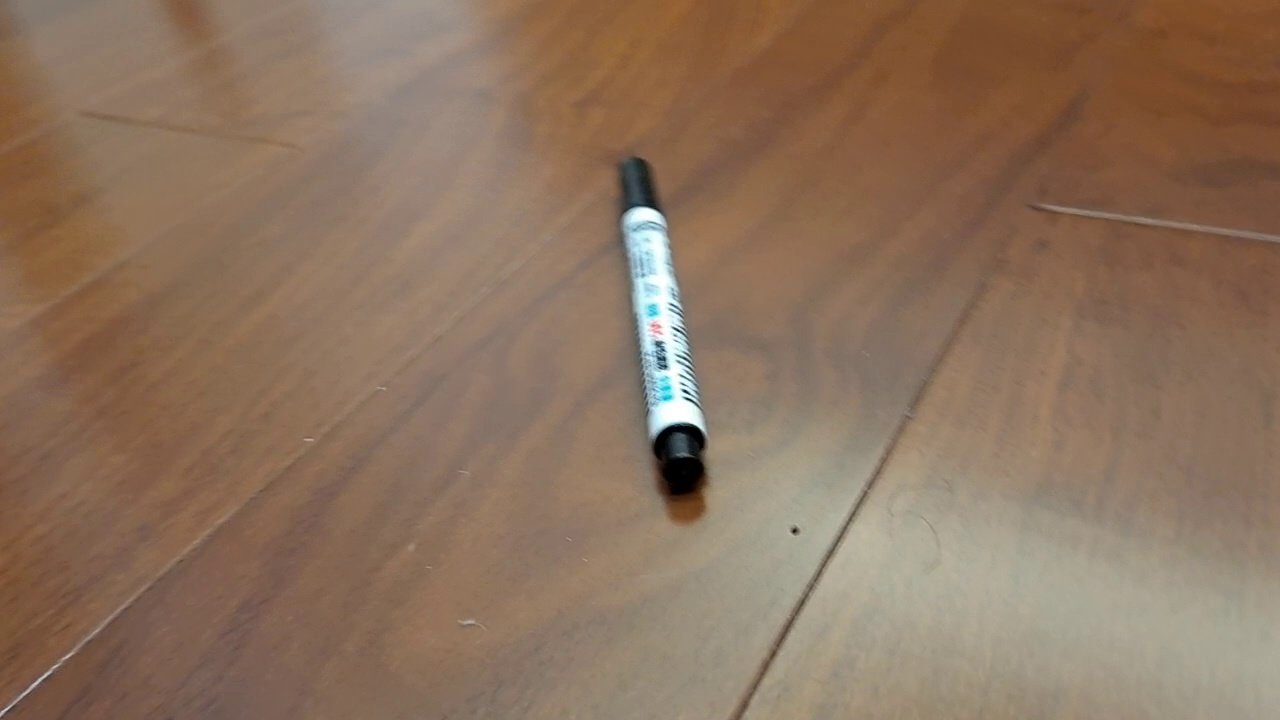pen: (613, 154, 710, 494)
